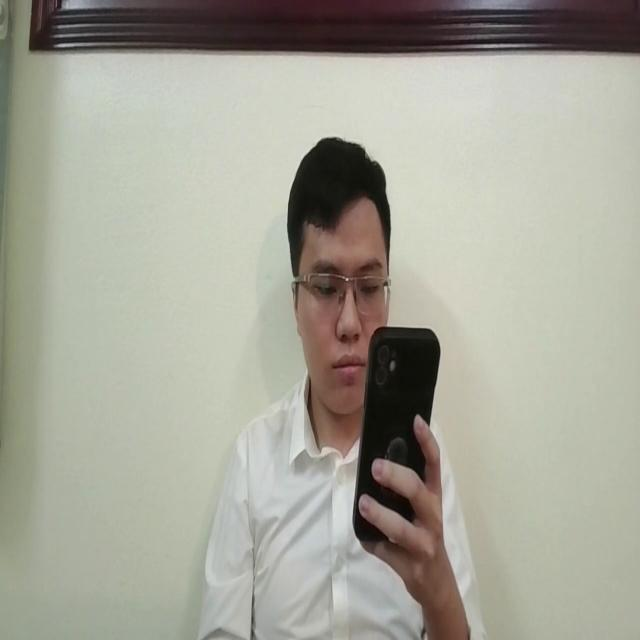phone: (348, 319, 444, 534)
student: (198, 128, 488, 640)
